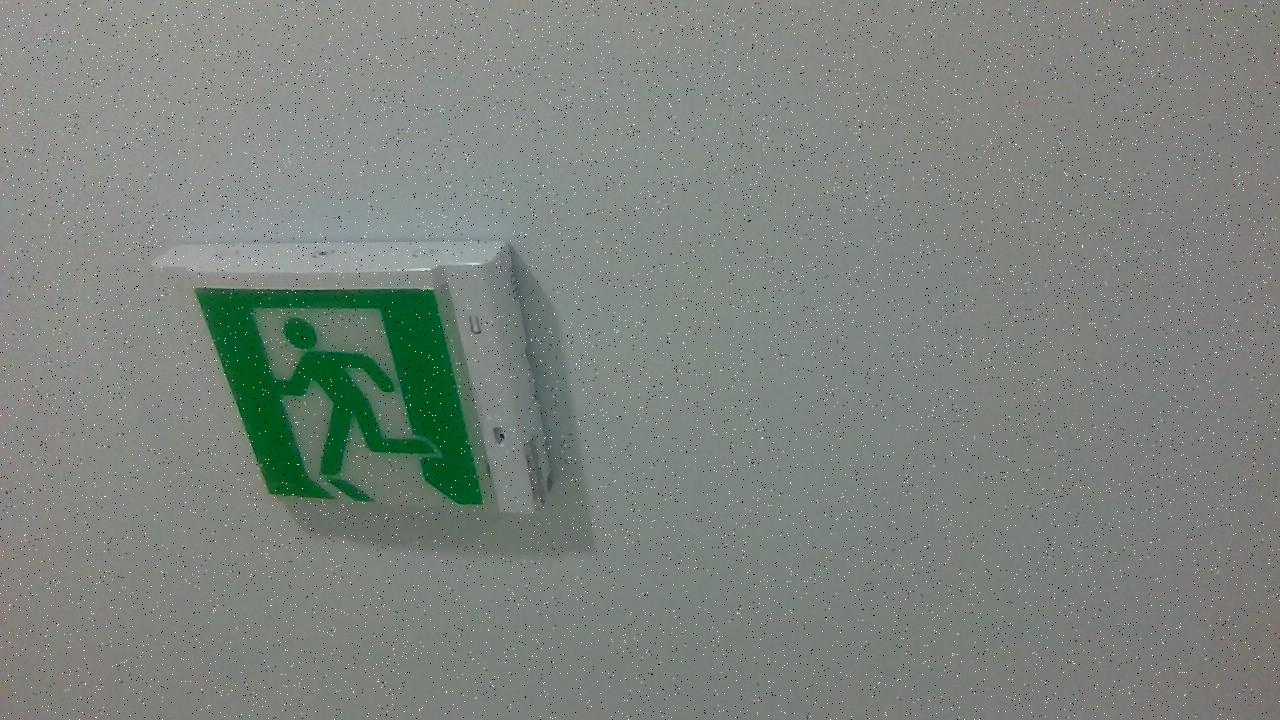emergency_exit: (152, 239, 551, 519), (192, 283, 490, 510)
